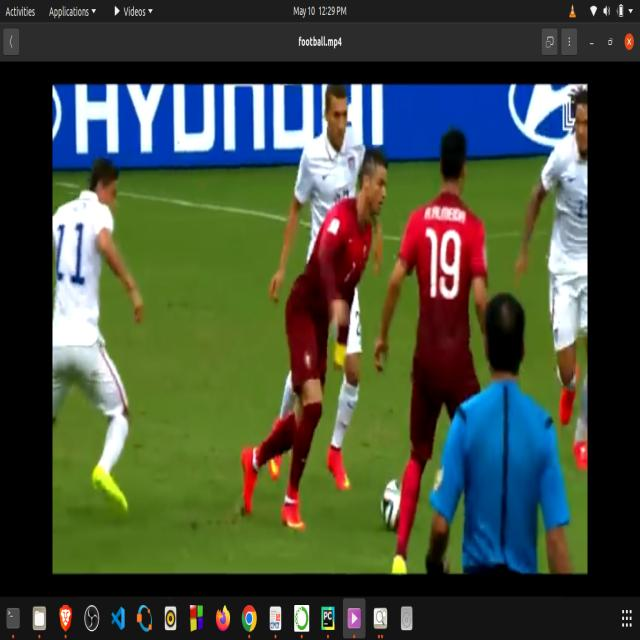Ball: (372, 466, 406, 536)
football-players: (238, 149, 384, 534), (274, 85, 388, 485), (394, 120, 491, 573), (428, 289, 579, 571), (52, 148, 158, 520), (520, 85, 588, 469)
